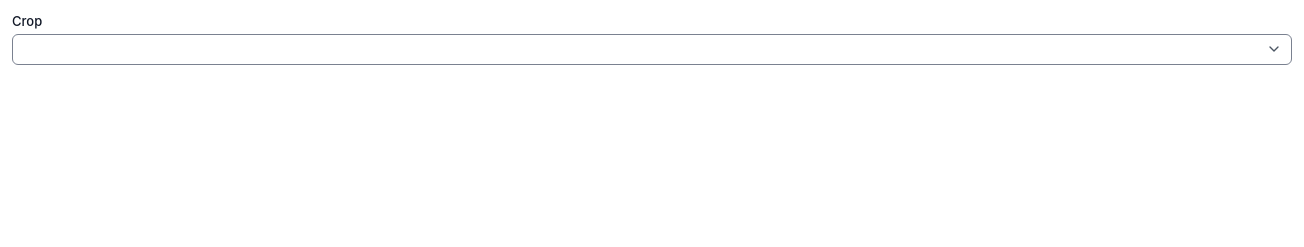
Scenario: Combobox › closes on Escape without changing the selection
Click the dropdown labelled "Crop".
click(652, 49)  # box x1=12 y1=34 x2=1292 y2=65
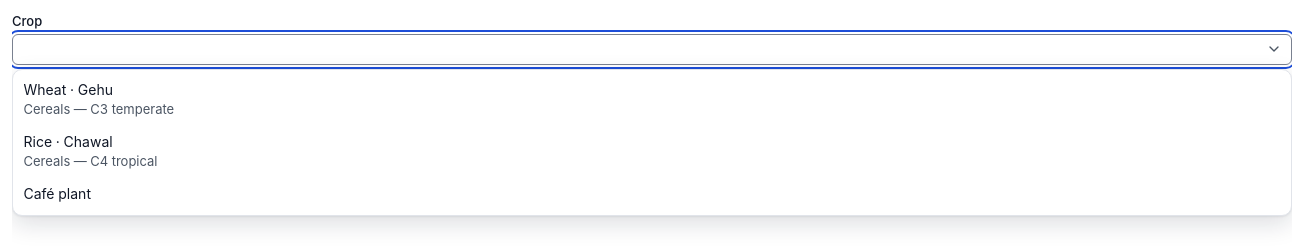
Press Arrowdown Escape
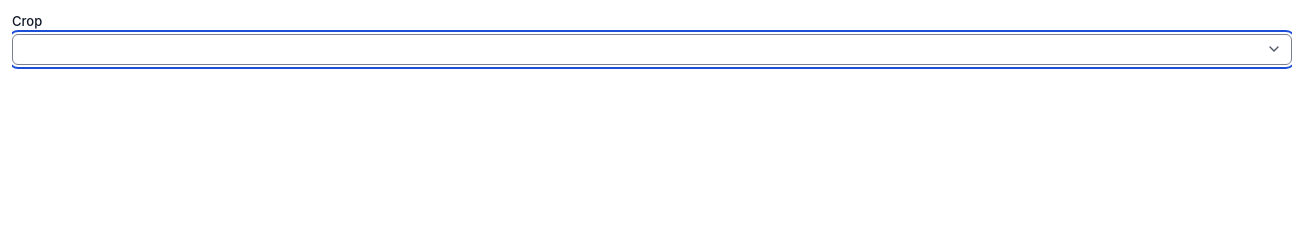
Expected: the list is gone
